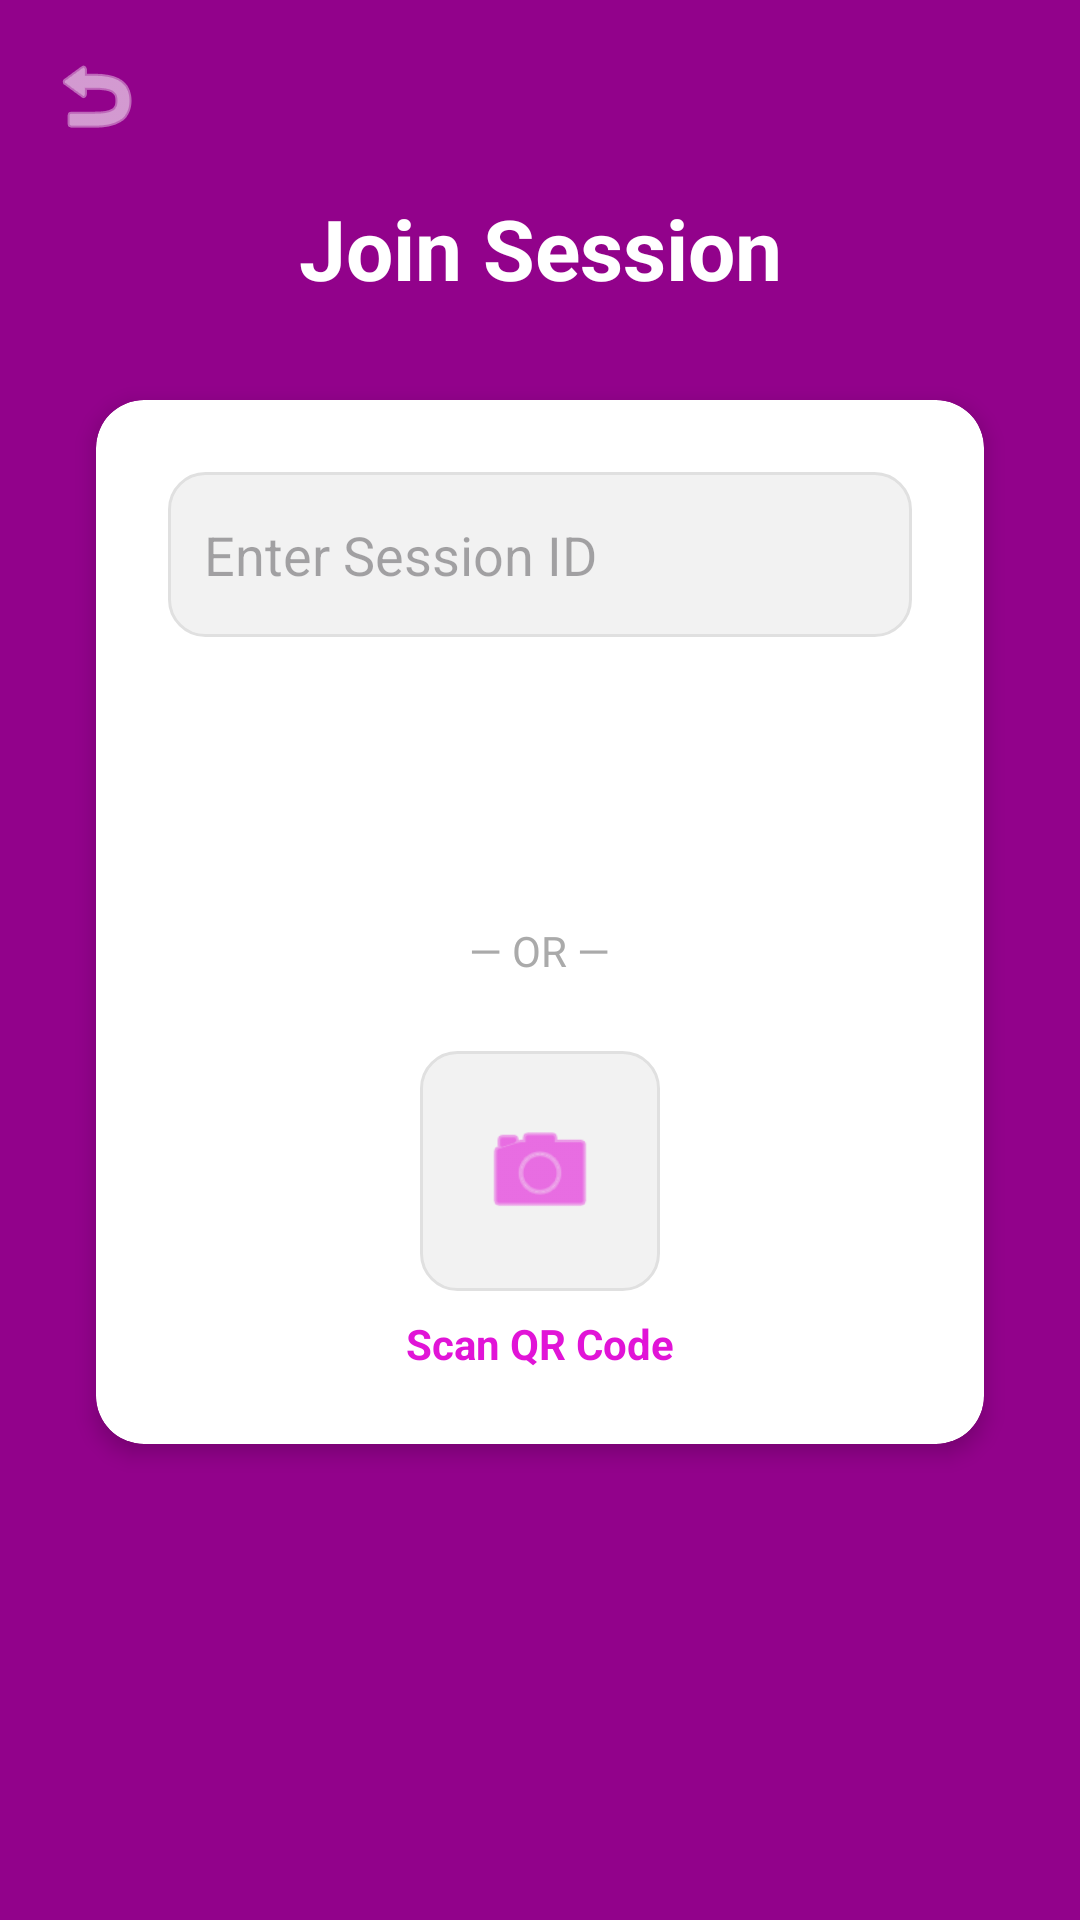

Locate icon controls on the screen. Image size 1080w x 1920h, boxes as (x1, y1, x2, y2).
Back: (63, 65, 132, 128)
